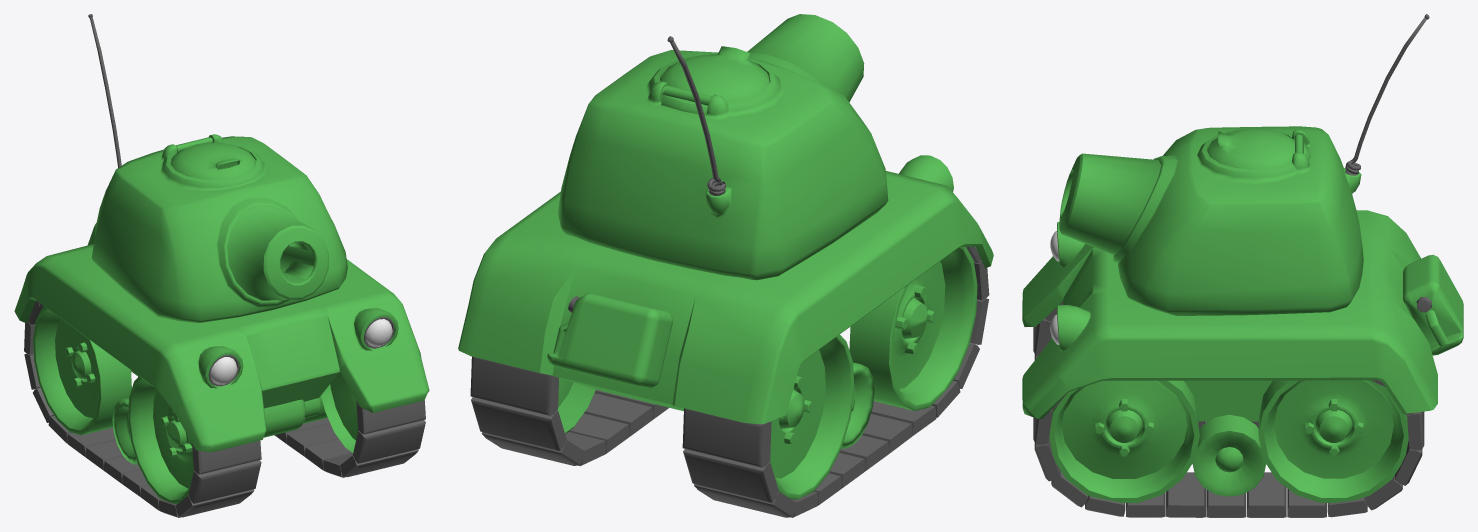
The model's file is Tank.fbx.
3 renders of one model, left to right at view 1: azimuth 30°, elevation 25°; view 2: azimuth 150°, elevation 25°; view 3: azimuth 270°, elevation 25°, orthographic. The views are drawn at different scales.
Parts seen in each view (by area): view 1: TankChassis, TankTurret, TankTracksRight, TankTracksLeft; view 2: TankChassis, TankTurret, TankTracksRight, TankTracksLeft; view 3: TankChassis, TankTurret, TankTracksLeft, TankTracksRight.
Part boxes in pixels (x1,y1,x2,y2): TankChassis: [14, 223, 429, 464]; TankTurret: [88, 14, 347, 322]; TankTracksRight: [24, 301, 261, 517]; TankTracksLeft: [274, 372, 425, 477]; TankChassis: [458, 155, 993, 448]; TankTurret: [558, 14, 888, 280]; TankTracksRight: [682, 246, 989, 517]; TankTracksLeft: [470, 356, 668, 466]; TankChassis: [1022, 210, 1463, 496]; TankTurret: [1059, 14, 1429, 315]; TankTracksLeft: [1033, 380, 1424, 517]; TankTracksRight: [1033, 302, 1258, 429].
Size of the model in its own units: 170 by 249 by 237.
